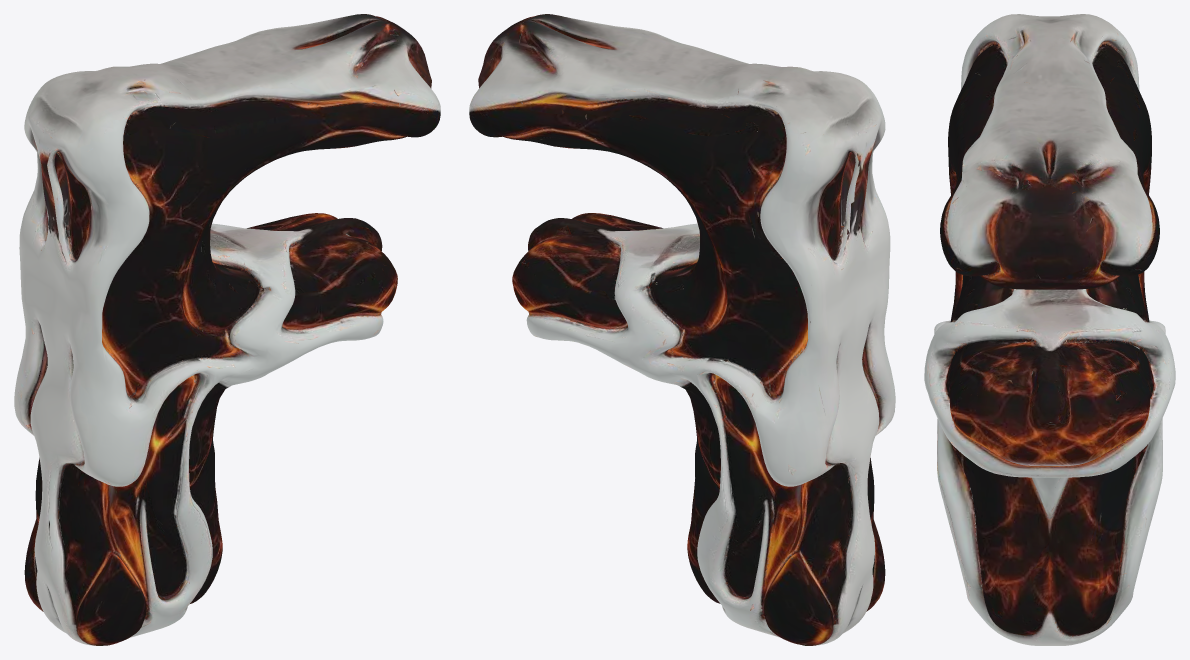
The model's file is forma-hero.glb.
The picture shows the model from 3 angles, left to right: view 1: azimuth 30°, elevation 25°; view 2: azimuth 150°, elevation 25°; view 3: azimuth 270°, elevation 25°; orthographic projection. The views are drawn at different scales.
Visible parts, largest first — view 1: Mesh_0; view 2: Mesh_0; view 3: Mesh_0.
Boxes of the visible parts, x1=… form: Mesh_0: x1=14, y1=14, x2=440, y2=645; Mesh_0: x1=469, y1=14, x2=895, y2=645; Mesh_0: x1=924, y1=14, x2=1175, y2=645.
Size of the model in its own units: 1.35 by 1.91 by 0.7122.
1 material, 1 textured.
